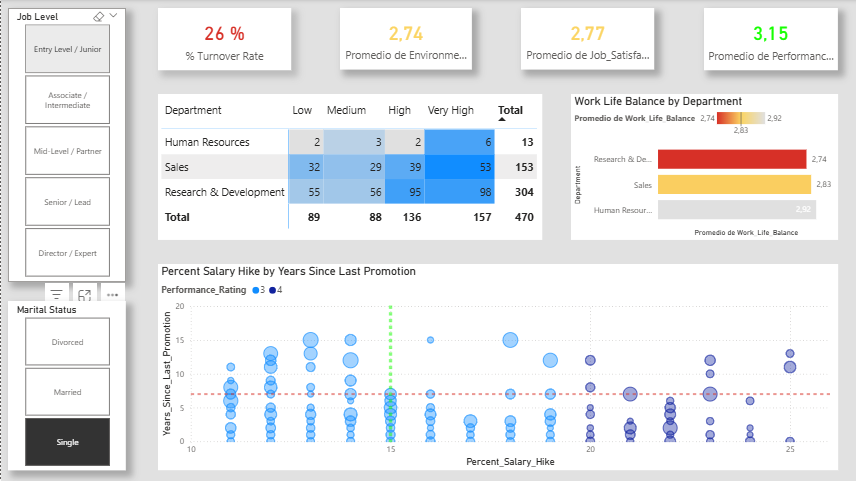

The dashboard page shown, as its layout file describes it:
{"tool":"powerbi","page":{"name":"Well-being and performance","canvas":[1280,720],"ordinal":2},"visuals":[{"type":"slicer","fields":{"Values":["Dim_JobDetails.Job_Level_Description"]},"box":[10.9,14,176.2,408.5],"z":0},{"type":"slicer","fields":{"Values":["Dim_Employee.Marital_Status"]},"box":[10.9,450.6,176.2,252.6],"z":1},{"type":"group","id":"g1","title":"Grupo 1","box":[234.5,13.4,1015.8,92.6],"z":6},{"type":"clusteredBarChart","title":"Work Life Balance by Department","fields":{"Category":["Dim_JobDetails.Department"],"Y":["Avg(Dim_Satisfaction.Work_Life_Balance)"]},"box":[851.5,141.9,398.8,218.1],"z":7},{"type":"pivotTable","fields":{"Columns":["Dim_Satisfaction.Job_Satisfaction_Description"],"Rows":["Dim_JobDetails.Department"],"Values":["_Measures.Total Employees"]},"box":[234.5,141.9,573.6,218.1],"z":8},{"type":"scatterChart","title":"Percent Salary Hike by Years Since Last Promotion","fields":{"Series":["Dim_PerformancePay.Performance_Rating"],"Size":["Avg(Dim_PerformancePay.Monthly_Income)"],"X":["Dim_PerformancePay.Percent_Salary_Hike"],"Y":["Dim_Tenure.Years_Since_Last_Promotion"]},"box":[234.5,395.9,1015.8,307.7],"z":9},{"type":"card","fields":{"Values":["Avg(Dim_Satisfaction.Job_Satisfaction)"]},"box":[777.4,13.4,199.3,92.3],"z":2000,"group":"g1"},{"type":"card","fields":{"Values":["Avg(Dim_Satisfaction.Environment_Satisfaction)"]},"box":[506.7,13.4,197.4,92.3],"z":3000,"group":"g1"},{"type":"card","fields":{"Values":["Avg(Dim_PerformancePay.Performance_Rating)"]},"box":[1050,13.4,200.3,92.6],"z":4000,"group":"g1"},{"type":"card","title":"Total Empoyees","fields":{"Values":["_Measures.% Turnover Rate"]},"box":[234.5,13.4,198.8,92.6],"z":5000,"group":"g1"}]}

Visuals, with their boxes on the page's 1280x720 design canvas (x1, y1, x2, y2). These are canvas units, not pixel positions in the 856x481 screenshot, which may show the page scaled, cropped or inside an application window:
slicer - Dim_JobDetails.Job_Level_Description: bbox=(11, 14, 187, 422)
slicer - Dim_Employee.Marital_Status: bbox=(11, 451, 187, 703)
"Grupo 1" group: bbox=(234, 13, 1250, 106)
"Work Life Balance by Department" clusteredBarChart: bbox=(852, 142, 1250, 360)
pivotTable - Dim_Satisfaction.Job_Satisfaction_Description x Dim_JobDetails.Department: bbox=(234, 142, 808, 360)
"Percent Salary Hike by Years Since Last Promotion" scatterChart: bbox=(234, 396, 1250, 704)
card - Avg(Dim_Satisfaction.Job_Satisfaction): bbox=(777, 13, 977, 106)
card - Avg(Dim_Satisfaction.Environment_Satisfaction): bbox=(507, 13, 704, 106)
card - Avg(Dim_PerformancePay.Performance_Rating): bbox=(1050, 13, 1250, 106)
"Total Empoyees" card: bbox=(234, 13, 433, 106)
